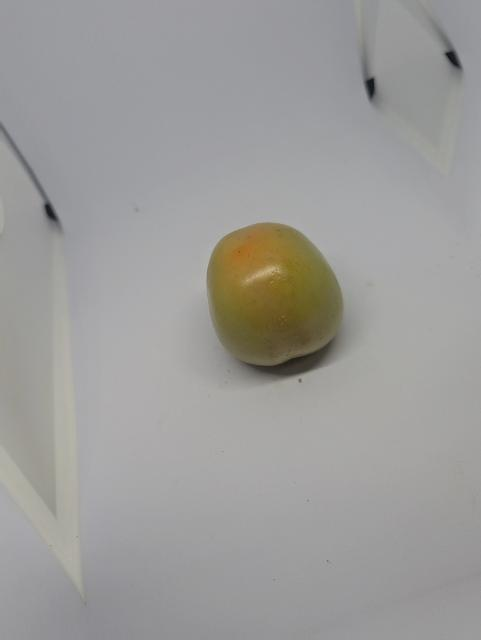breaker: (204, 217, 346, 370)
